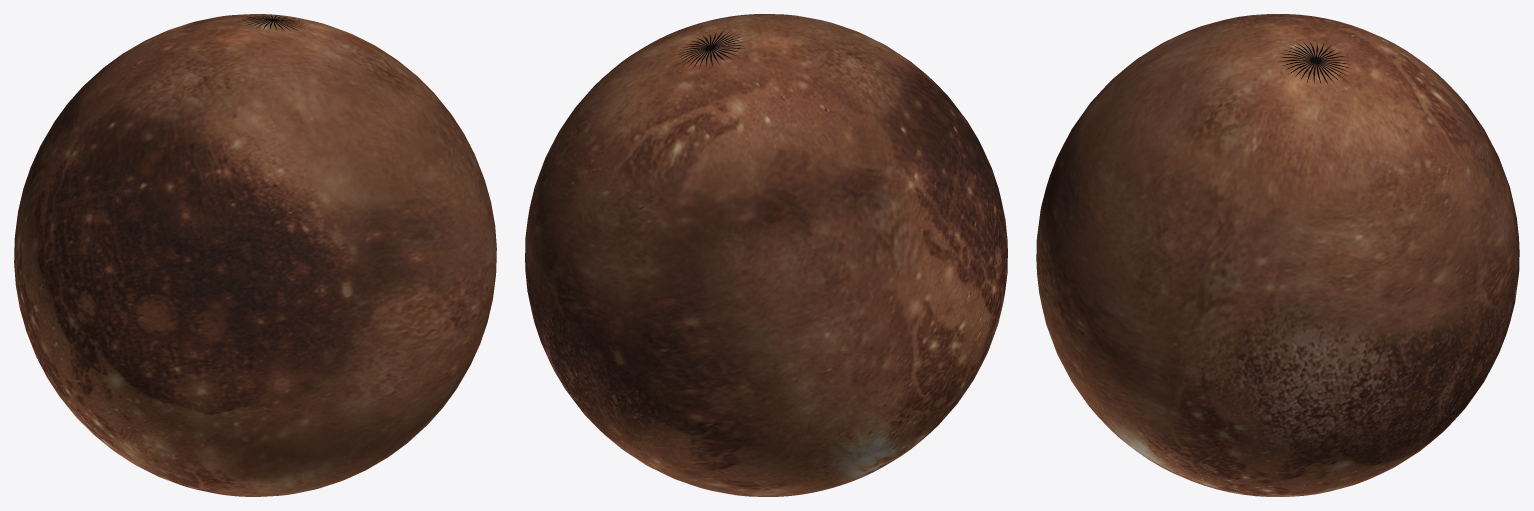
File: merkurius.fbx
3 views of the same model, side by side, from view 1: azimuth 30°, elevation 25°; view 2: azimuth 150°, elevation 25°; view 3: azimuth 270°, elevation 25° (orthographic).
Visible parts, largest first — view 1: Sphere; view 2: Sphere; view 3: Sphere.
Part boxes in pixels (box(x1,y1,x2,y2)): Sphere: box(14, 14, 496, 496); Sphere: box(525, 14, 1007, 496); Sphere: box(1036, 14, 1519, 496).
Bounding box in the file's own units: 200 × 200 × 200.
